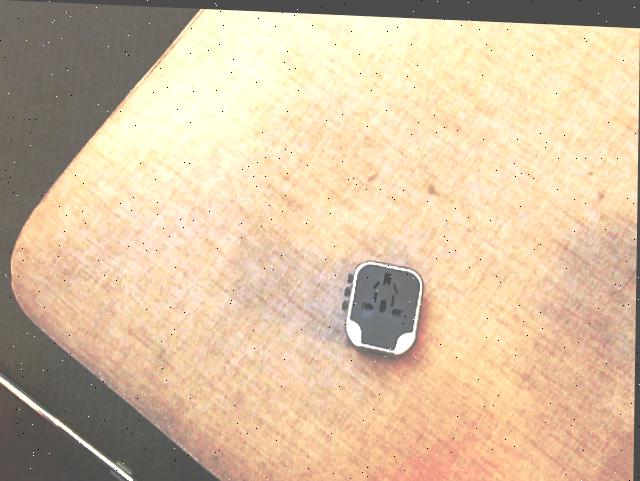adapter: (342, 256, 424, 353)
